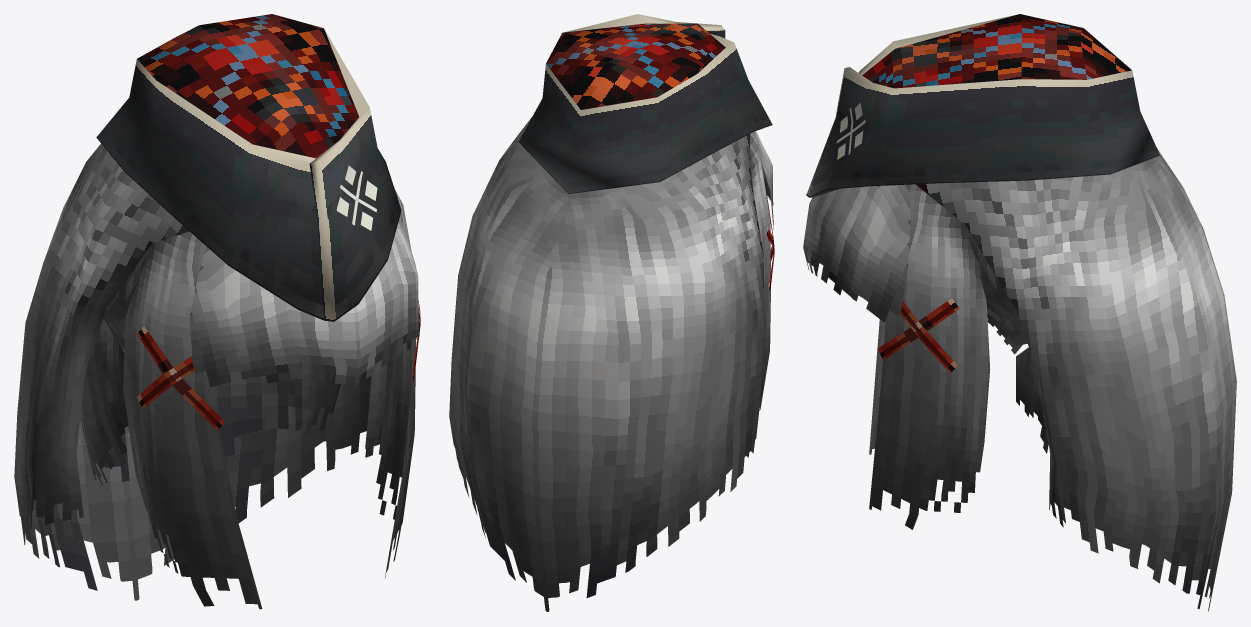
Rendered from f_hair158.glb.
3 views of the same model, side by side, from view 1: azimuth 30°, elevation 25°; view 2: azimuth 150°, elevation 25°; view 3: azimuth 270°, elevation 25° (orthographic). The views are drawn at different scales.
Size of the model in its own units: 25.98 by 42.85 by 29.3.
1 material, 1 textured.
